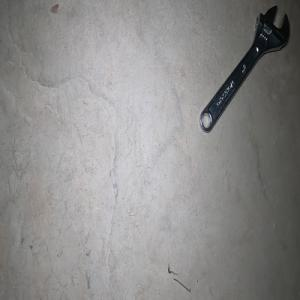Wrench: (199, 5, 289, 132)
